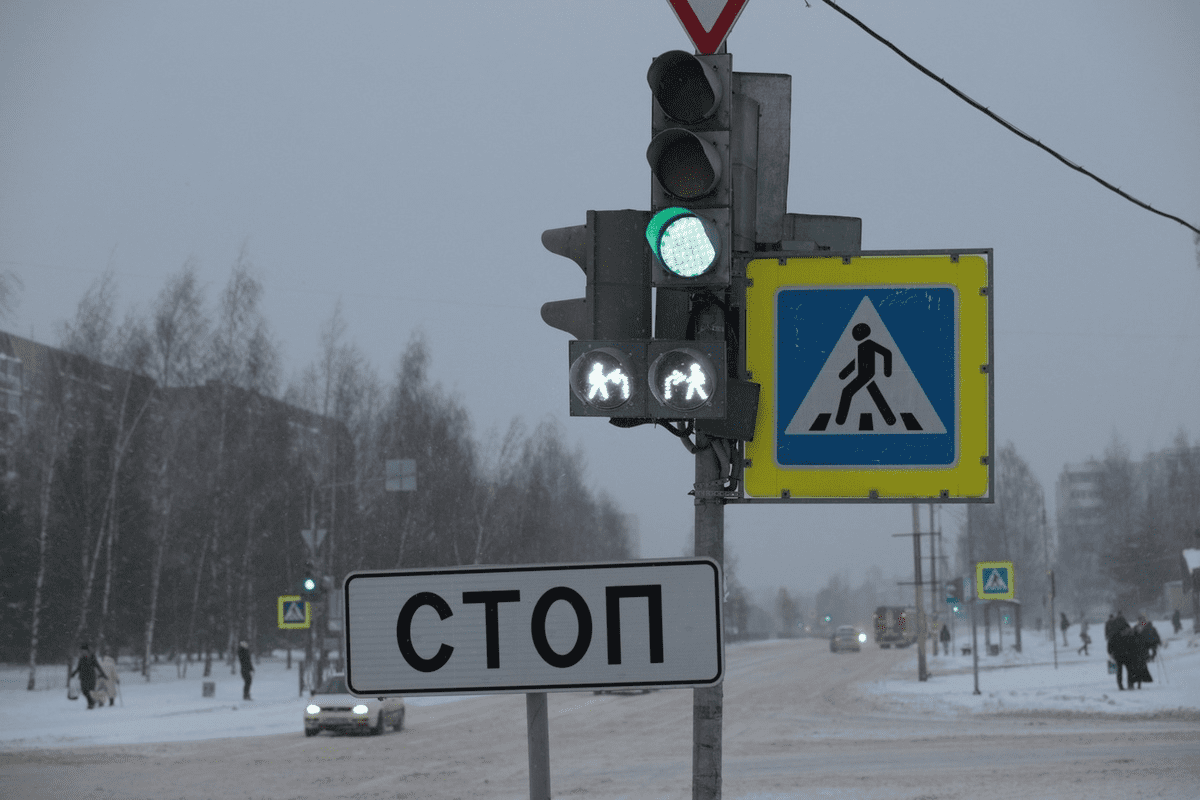tl: (639, 48, 750, 284), (533, 215, 650, 337)
